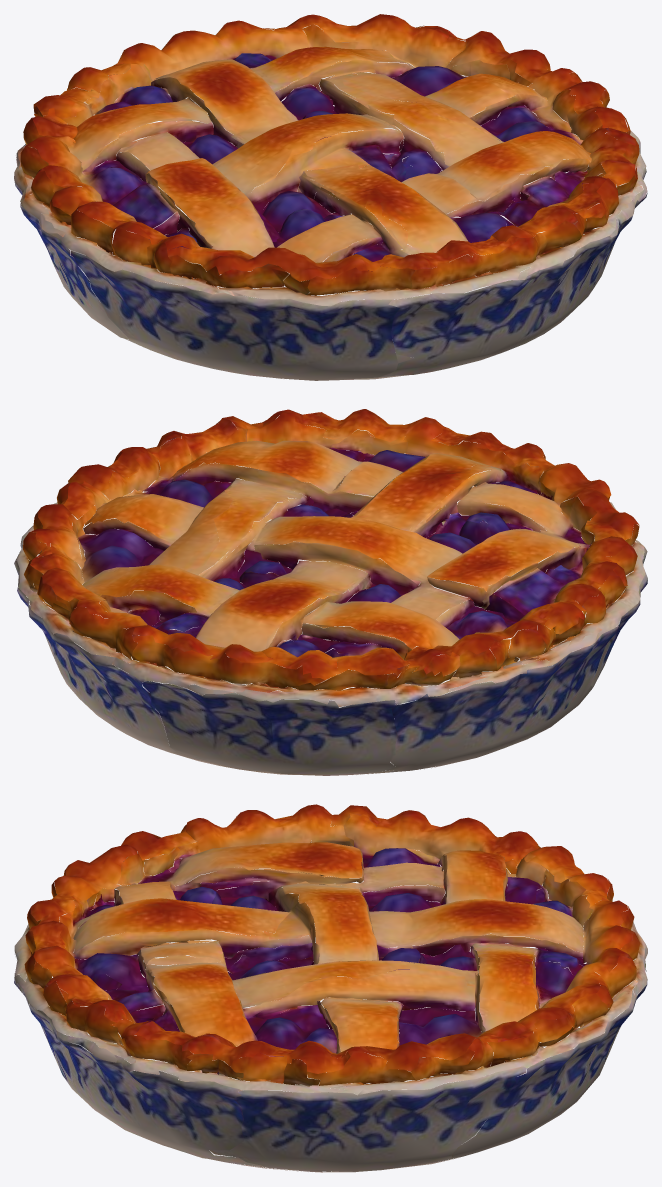
File: pie.glb
The picture shows the model from 3 angles, top to bottom: view 1: azimuth 30°, elevation 25°; view 2: azimuth 150°, elevation 25°; view 3: azimuth 270°, elevation 25°; orthographic projection.
Parts seen in each view (by area): view 1: textured_mesh.obj; view 2: textured_mesh.obj; view 3: textured_mesh.obj.
Part boxes in pixels (x1,y1,x2,y2): textured_mesh.obj: (14, 14, 647, 380); textured_mesh.obj: (14, 409, 647, 775); textured_mesh.obj: (14, 804, 647, 1172).
Bounding box in the file's own units: 3.84 × 1 × 3.83.
Materials: 1 (1 with a texture image).
